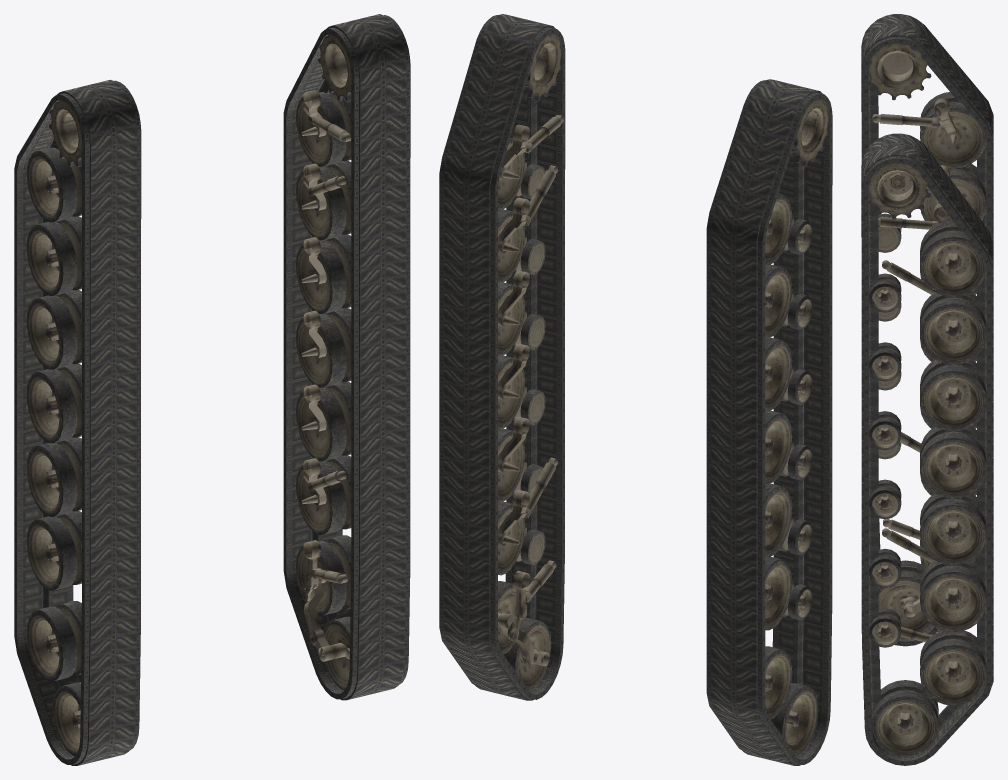
Rendered from Chassis.glb.
3 renders of one model, left to right at view 1: azimuth 30°, elevation 25°; view 2: azimuth 150°, elevation 25°; view 3: azimuth 270°, elevation 25°, orthographic. The views are drawn at different scales.
Visible parts, largest first — view 1: set_1_group_0, set_0_group_0, set_3_group_0, set_2_group_0; view 2: set_1_group_0, set_0_group_0, set_3_group_0, set_2_group_0; view 3: set_3_group_0, set_0_group_0, set_2_group_0, set_1_group_0.
Part boxes in pixels (left/top/right/bottom): set_1_group_0: left=14, top=79, right=141, bottom=765; set_0_group_0: left=283, top=14, right=410, bottom=700; set_3_group_0: left=296, top=34, right=351, bottom=690; set_2_group_0: left=26, top=100, right=82, bottom=756; set_1_group_0: left=706, top=79, right=832, bottom=765; set_0_group_0: left=439, top=14, right=565, bottom=700; set_3_group_0: left=478, top=34, right=564, bottom=691; set_2_group_0: left=746, top=81, right=828, bottom=756; set_3_group_0: left=868, top=163, right=986, bottom=756; set_0_group_0: left=861, top=133, right=993, bottom=765; set_2_group_0: left=868, top=43, right=986, bottom=632; set_1_group_0: left=861, top=14, right=993, bottom=646.
Bounding box in the file's own units: 3.38 × 6.66 × 1.31.
4 materials, 4 textured.
